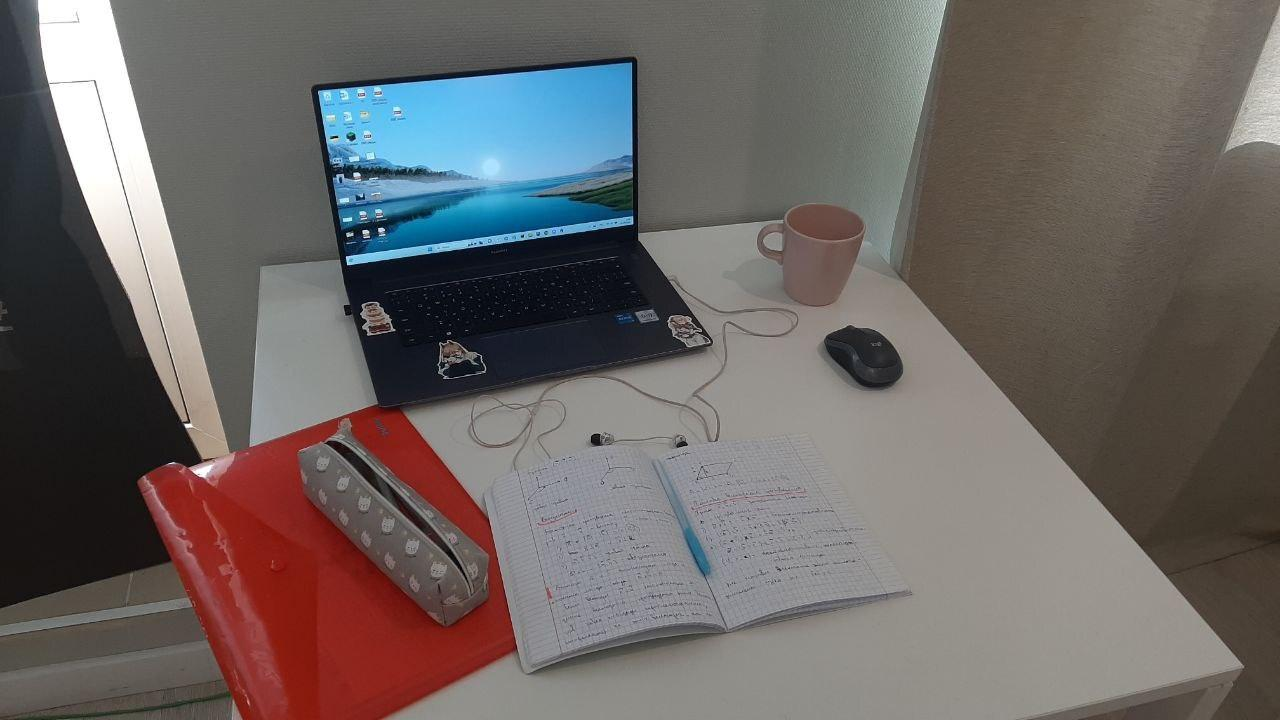monitor: (308, 54, 642, 283)
